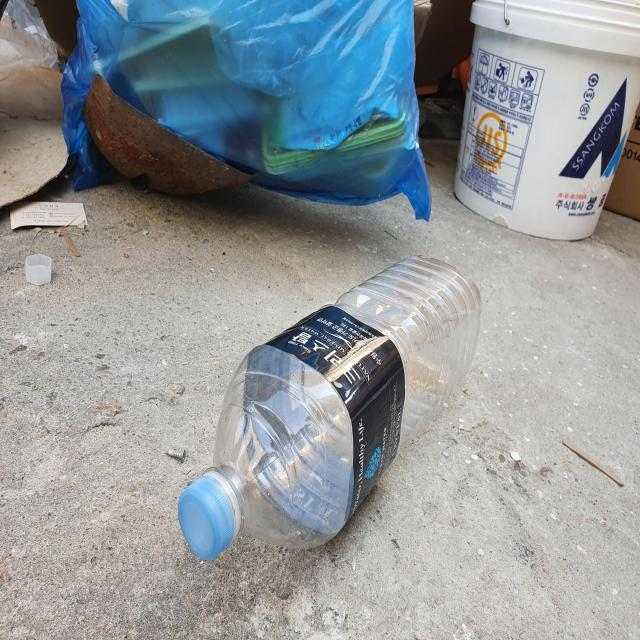plastic_bottle: (178, 254, 482, 562)
